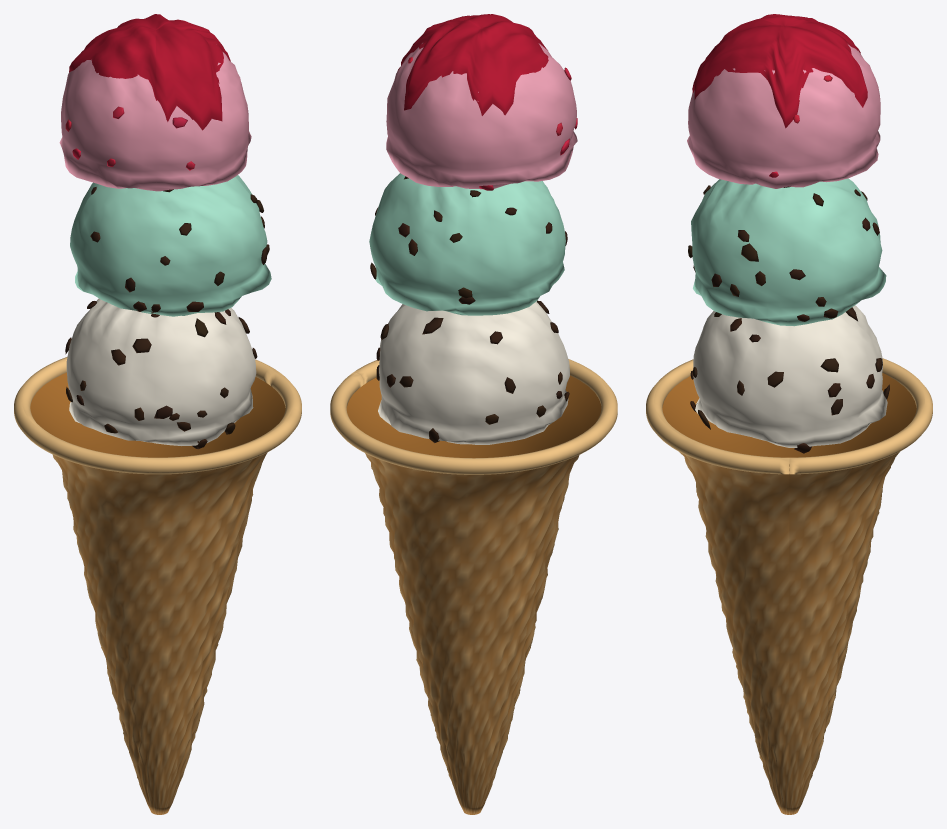
Rendered from sorvete-cascao.glb.
3 views of the same model, side by side, from view 1: azimuth 30°, elevation 25°; view 2: azimuth 150°, elevation 25°; view 3: azimuth 270°, elevation 25° (orthographic).
Visible parts, largest first — view 1: casquinha, bola_0_flocos, bola_1_menta, bola_2_morango, calda_0; view 2: casquinha, bola_0_flocos, bola_1_menta, bola_2_morango, calda_0; view 3: casquinha, bola_1_menta, bola_0_flocos, bola_2_morango, calda_0.
Part boxes in pixels (x1,y1,x2,y2): casquinha: (14,356,301,814); bola_0_flocos: (65,298,257,449); bola_1_menta: (70,175,271,316); bola_2_morango: (59,52,251,191); calda_0: (69,14,230,130); casquinha: (330,359,617,814); bola_0_flocos: (376,300,569,444); bola_1_menta: (369,173,567,315); bola_2_morango: (386,43,577,190); calda_0: (401,14,548,115); casquinha: (646,358,932,814); bola_1_menta: (688,178,886,326); bola_0_flocos: (690,305,889,453); bola_2_morango: (687,44,880,188); calda_0: (692,14,867,128).
Bounding box in the file's own units: 0.0874 × 0.2644 × 0.0874.
